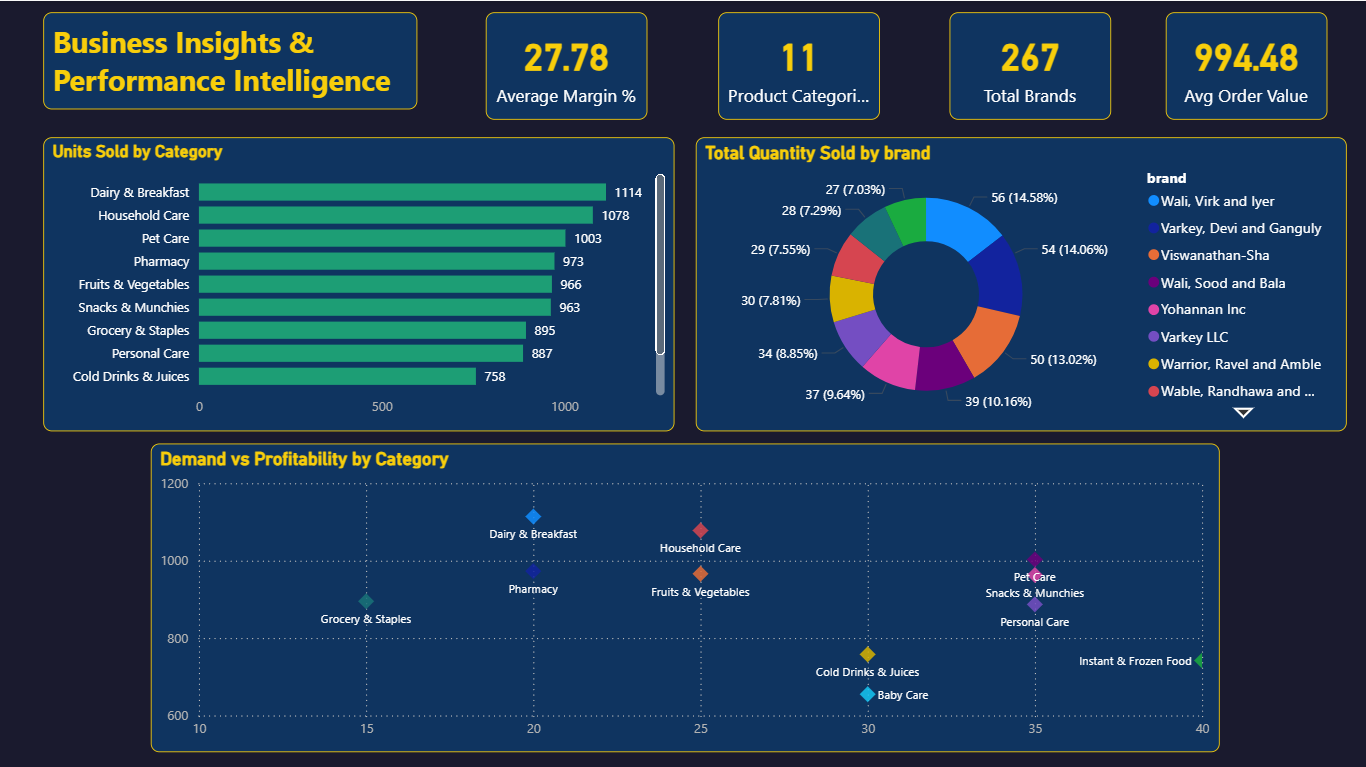

Layout of this report page (visuals, bound fields, positions):
{"tool":"powerbi","page":{"name":"Business Insights & Performance Intelligence","canvas":[1280,720],"ordinal":4},"visuals":[{"type":"card","fields":{"Values":["Avg(products.margin_percentage)"]},"box":[454.7,10.5,150,100],"z":0},{"type":"card","fields":{"Values":["Count(products.category)"]},"box":[670.9,10.5,150,100],"z":1000},{"type":"card","fields":{"Values":["Count(products.brand)"]},"box":[886,10.5,150,100],"z":2000},{"type":"card","fields":{"Values":["_Measures.Avg Order Value"]},"box":[1087.2,10.5,150,100],"z":3000},{"type":"clusteredBarChart","title":"Units Sold by Category","fields":{"Category":["products.category"],"Y":["_Measures.Total Quantity Sold"]},"box":[43,126.7,587.2,273.3],"z":4000},{"type":"scatterChart","title":"Demand vs Profitability by Category","fields":{"X":["Avg(products.margin_percentage)"],"Y":["_Measures.Total Quantity Sold"],"Series":["products.category"]},"box":[143,411.6,994.2,287.2],"z":5000},{"type":"donutChart","fields":{"Category":["products.brand"],"Y":["_Measures.Total Quantity Sold"]},"box":[650,126.7,605.8,273.3],"z":6000},{"type":"textbox","box":[43,10.5,347.7,90.7],"z":7000}]}

Visuals, with their boxes in screenshot pixels (x1, y1, x2, y2), scaled from the page's 1280x720 canvas onto the 1366x767 screenshot:
card - Avg(products.margin_percentage): x1=485 y1=11 x2=645 y2=118
card - Count(products.category): x1=716 y1=11 x2=876 y2=118
card - Count(products.brand): x1=946 y1=11 x2=1106 y2=118
card - _Measures.Avg Order Value: x1=1160 y1=11 x2=1320 y2=118
"Units Sold by Category" clusteredBarChart: x1=46 y1=135 x2=673 y2=426
"Demand vs Profitability by Category" scatterChart: x1=153 y1=438 x2=1214 y2=744
donutChart - products.brand x _Measures.Total Quantity Sold: x1=694 y1=135 x2=1340 y2=426
textbox: x1=46 y1=11 x2=417 y2=108
